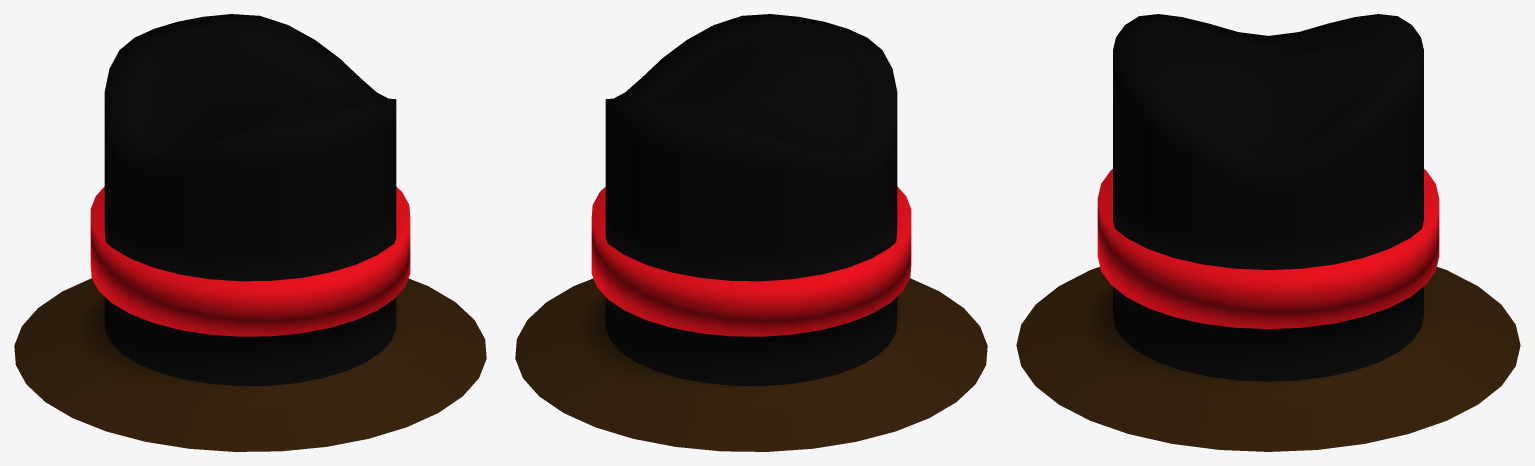
Rendered from fancy_hat.glb.
3 renders of one model, left to right at view 1: azimuth 30°, elevation 25°; view 2: azimuth 150°, elevation 25°; view 3: azimuth 270°, elevation 25°, orthographic. The views are drawn at different scales.
Visible parts, largest first — view 1: FancyHat; view 2: FancyHat; view 3: FancyHat.
Boxes of the visible parts, x1,y1,x2,y2 form: FancyHat: [14, 14, 486, 451]; FancyHat: [515, 14, 987, 451]; FancyHat: [1016, 14, 1520, 451].
Bounding box in the file's own units: 3.24 × 2.09 × 3.24.
